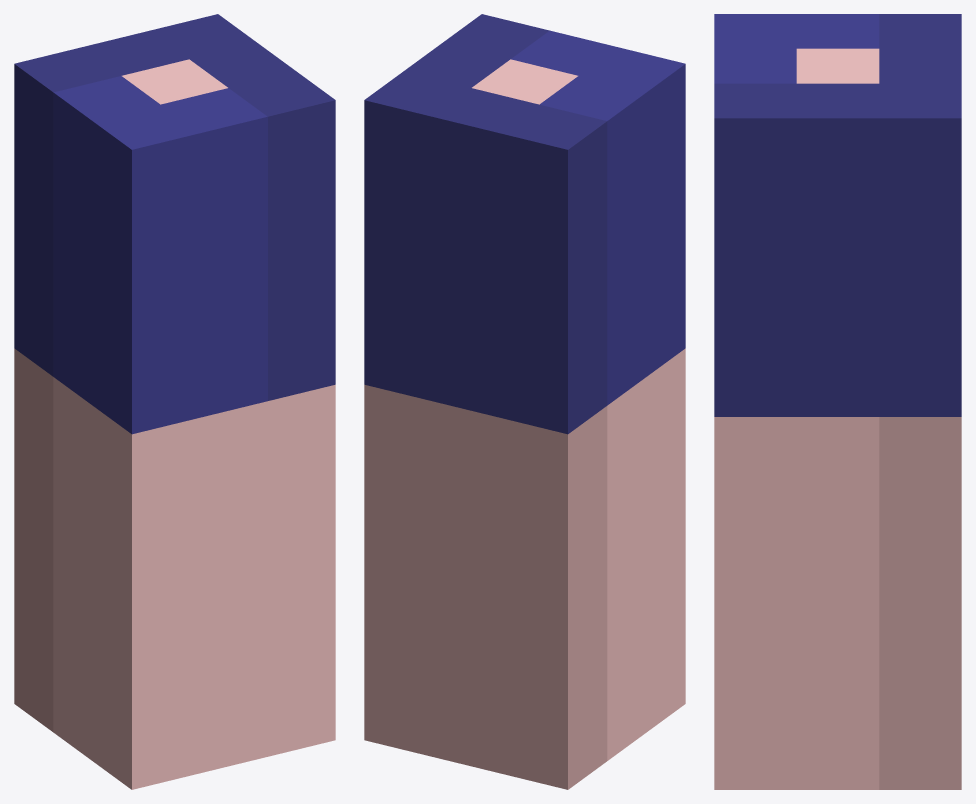
The model's file is pracGenny-6-Lleg1.obj.
3 views of the same model, side by side, from view 1: azimuth 30°, elevation 25°; view 2: azimuth 150°, elevation 25°; view 3: azimuth 270°, elevation 25° (orthographic). The views are drawn at different scales.
Parts seen in each view (by area): view 1: Lleg1; view 2: Lleg1; view 3: Lleg1.
Boxes of the visible parts, x1,y1,x2,y2 form: Lleg1: [14, 14, 335, 789]; Lleg1: [364, 14, 685, 789]; Lleg1: [714, 14, 961, 789].
Bounding box in the file's own units: 0.3 × 0.9 × 0.3.
1 material, 1 textured.
